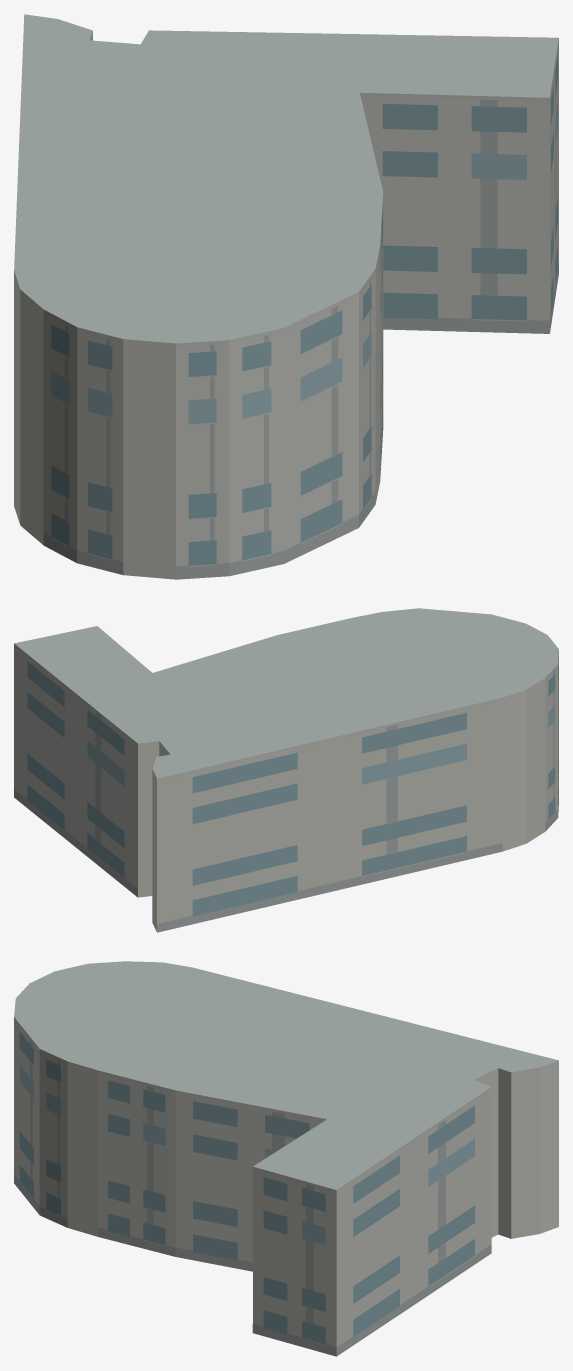
File: residential-3975115f-ee2f-4c18-9330-943b2b76f63d.glb
3 renders of one model, top to bottom at view 1: azimuth 30°, elevation 25°; view 2: azimuth 150°, elevation 25°; view 3: azimuth 270°, elevation 25°, orthographic. The views are drawn at different scales.
Visible parts, largest first — view 1: residential-3975115f-ee2f-4c18-9330-943b2b76f63d.tmp; view 2: residential-3975115f-ee2f-4c18-9330-943b2b76f63d.tmp; view 3: residential-3975115f-ee2f-4c18-9330-943b2b76f63d.tmp.
Part boxes in pixels (bbox=[...]): residential-3975115f-ee2f-4c18-9330-943b2b76f63d.tmp: bbox=[14, 14, 558, 579]; residential-3975115f-ee2f-4c18-9330-943b2b76f63d.tmp: bbox=[14, 608, 558, 932]; residential-3975115f-ee2f-4c18-9330-943b2b76f63d.tmp: bbox=[14, 961, 558, 1356].
Size of the model in its own units: 44.94 by 15.25 by 45.23.
